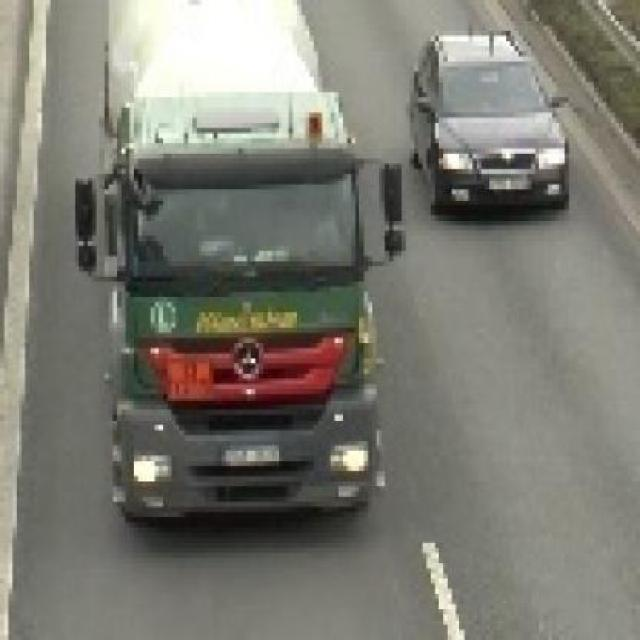truck: (81, 1, 412, 523)
